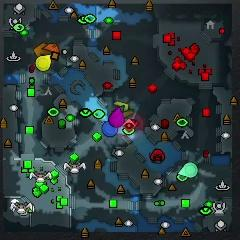p1: (102, 120, 117, 136)
p2: (178, 161, 199, 177)
p3: (109, 107, 124, 127)
p4: (35, 56, 52, 72)
p5: (44, 42, 60, 54)
x2: (112, 100, 128, 112)
x4: (123, 109, 135, 118)
x5: (34, 43, 56, 57)
